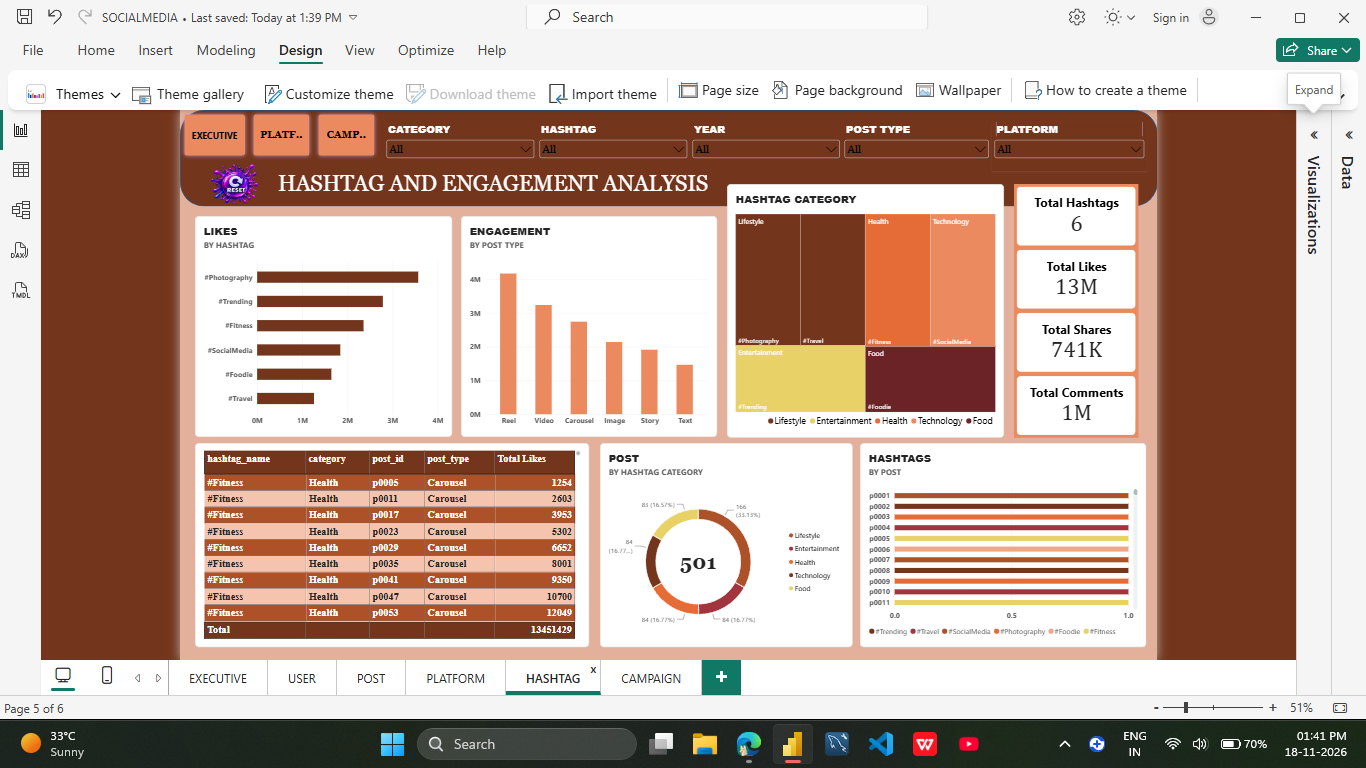

What the dashboard file says about the page in this screenshot:
{"tool":"powerbi","page":{"name":"HASHTAG","canvas":[1920,1080],"ordinal":4},"visuals":[{"type":"group","id":"g1","title":"Group 1","box":[0,0,1919.8,324],"z":0},{"type":"shape","box":[0,0,1919.8,189.4],"z":0,"group":"g1"},{"type":"slicer","fields":{"Values":["social_media platforms.platform_name"]},"box":[1593.6,24.2,304.2,96.9],"z":8,"group":"g1"},{"type":"slicer","fields":{"Values":["social_media posts.post_type"]},"box":[1300.4,24.2,293.1,96.9],"z":9,"group":"g1"},{"type":"slicer","fields":{"Values":["social_media users.Registration Year"]},"box":[1000.7,24.2,299.2,73.6],"z":10,"group":"g1"},{"type":"cardVisual","fields":{"Data":["social_media hashtags.Total Hashtags","social_media likes.Total Likes","social_media posts.Total Shares","social_media comments.Total Comments"]},"box":[1637.6,145.5,244.7,498.1],"z":1000},{"type":"barChart","title":"HASHTAGS","fields":{"Category":["social_media posthashtag.post_id"],"Series":["social_media hashtags.hashtag_name"],"Y":["CountNonNull(social_media hashtags.hashtag_name)"]},"box":[1335.7,654.6,562,401.1],"z":2000},{"type":"clusteredBarChart","title":"LIKES","fields":{"Category":["social_media hashtags.hashtag_name"],"Y":["social_media likes.Total Likes"]},"box":[28.7,207.2,504.7,434.2],"z":3000},{"type":"treemap","title":"HASHTAG CATEGORY","fields":{"Details":["social_media hashtags.hashtag_name"],"Group":["social_media hashtags.category"],"Values":["CountNonNull(social_media likes.post_id)"]},"box":[1073.4,145.5,544.4,498.1],"z":4000},{"type":"donutChart","title":"POST","fields":{"Category":["social_media hashtags.category"],"Y":["CountNonNull(social_media likes.post_id)"]},"box":[824.3,654.6,495.9,401.1],"z":5000},{"type":"clusteredColumnChart","title":"ENGAGEMENT","fields":{"Category":["social_media posts.post_type"],"Y":["social_media adperformance.Total Engagements"]},"box":[551,207.2,502.5,434.2],"z":6000},{"type":"tableEx","fields":{"Values":["social_media hashtags.hashtag_name","social_media hashtags.category","social_media posthashtag.post_id","social_media posts.post_type","social_media likes.Total Likes"]},"box":[28.7,654.6,773.6,401.1],"z":7000},{"type":"slicer","fields":{"Values":["social_media hashtags.category"]},"box":[401.1,24.2,299.8,101.4],"z":7001,"group":"g1"},{"type":"slicer","fields":{"Values":["social_media hashtags.hashtag_name"]},"box":[700.9,24.2,300,299.8],"z":7001,"group":"g1"},{"type":"textbox","box":[191.8,99.2,861.8,90.4],"z":7001},{"type":"image","box":[48.4,99.5,118.3,91.4],"z":7002},{"type":"actionButton","box":[0,0,136.2,98.2],"z":7003},{"type":"actionButton","box":[136.2,0,127.3,98.2],"z":7004},{"type":"actionButton","box":[263.4,0,127.3,98.2],"z":7005}]}

Visuals, with their boxes on the page's 1920x1080 design canvas (x1, y1, x2, y2). These are canvas units, not pixel positions in the 1366x768 screenshot, which may show the page scaled, cropped or inside an application window:
"Group 1" group: select_region(0, 0, 1920, 324)
shape: select_region(0, 0, 1920, 189)
slicer - social_media platforms.platform_name: select_region(1594, 24, 1898, 121)
slicer - social_media posts.post_type: select_region(1300, 24, 1594, 121)
slicer - social_media users.Registration Year: select_region(1001, 24, 1300, 98)
cardVisual - social_media hashtags.Total Hashtags x social_media likes.Total Likes: select_region(1638, 146, 1882, 644)
"HASHTAGS" barChart: select_region(1336, 655, 1898, 1056)
"LIKES" clusteredBarChart: select_region(29, 207, 533, 641)
"HASHTAG CATEGORY" treemap: select_region(1073, 146, 1618, 644)
"POST" donutChart: select_region(824, 655, 1320, 1056)
"ENGAGEMENT" clusteredColumnChart: select_region(551, 207, 1054, 641)
tableEx - social_media hashtags.hashtag_name x social_media hashtags.category: select_region(29, 655, 802, 1056)
slicer - social_media hashtags.category: select_region(401, 24, 701, 126)
slicer - social_media hashtags.hashtag_name: select_region(701, 24, 1001, 324)
textbox: select_region(192, 99, 1054, 190)
image: select_region(48, 100, 167, 191)
actionButton: select_region(0, 0, 136, 98)
actionButton: select_region(136, 0, 264, 98)
actionButton: select_region(263, 0, 391, 98)
